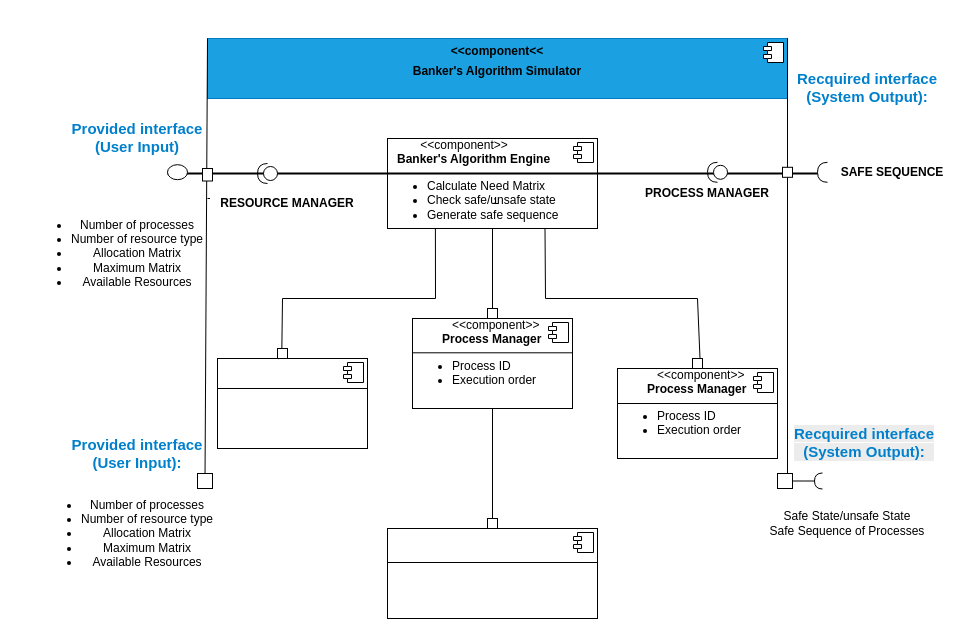
Image size: 974x636. Some labels were removed from this diagram. Each missing label, with the centre of its shape:
"<<component>> Deadlock detector Detect unsafe state display error message" goes at point 492,573.
"<<component>> Resource Manager Allocation Maximum Availabe" goes at point 292,403.
